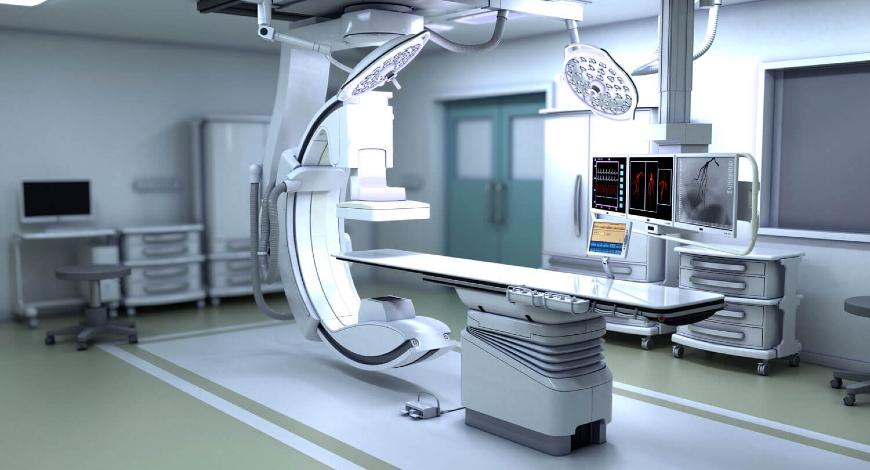Bed: (340, 247, 734, 458)
C_arm: (273, 90, 456, 374)
Light: (560, 41, 646, 125), (341, 30, 442, 96)
